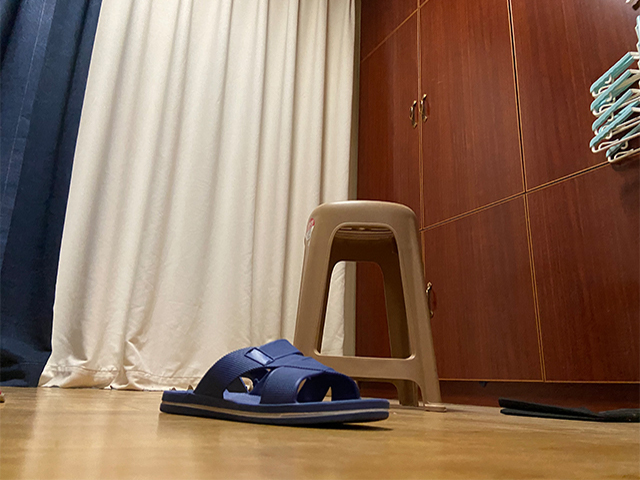cabinet: (353, 1, 640, 411)
curtain: (1, 1, 353, 391)
slippers: (159, 339, 391, 427)
stool: (292, 201, 443, 406)
